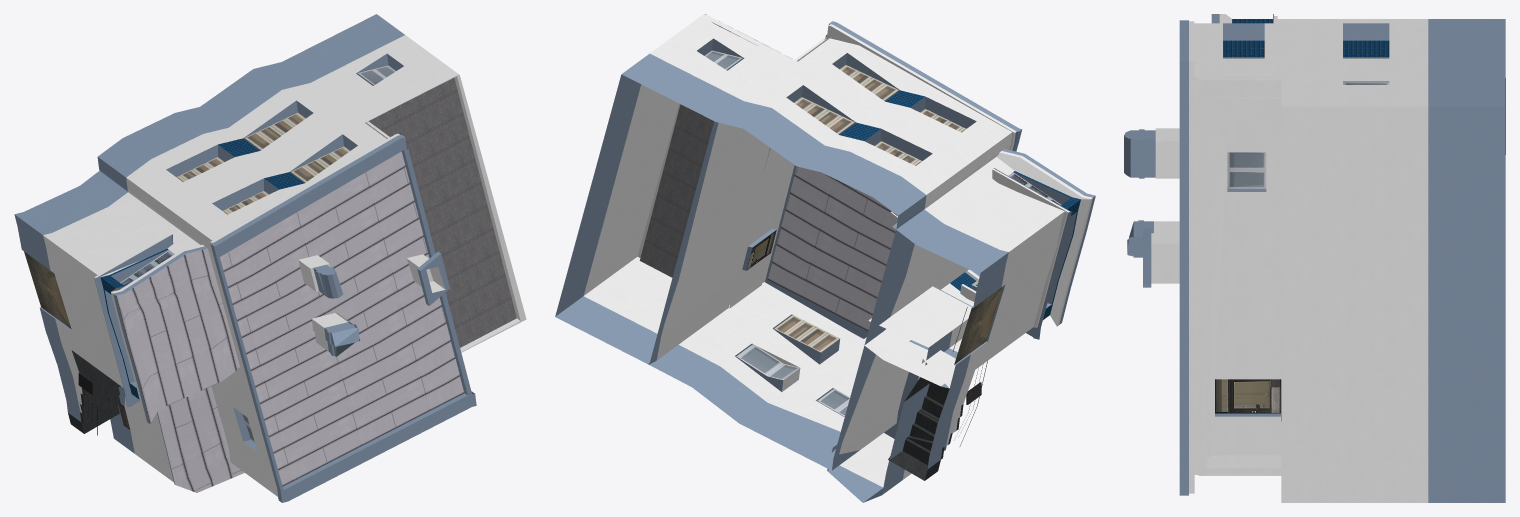
Rendered from Toompuiestee_6-origo.obj.
3 renders of one model, left to right at view 1: azimuth 30°, elevation 25°; view 2: azimuth 150°, elevation 25°; view 3: azimuth 270°, elevation 25°, orthographic. The views are drawn at different scales.
Parts seen in each view (by area): view 1: Toompuiestee_6; view 2: Toompuiestee_6; view 3: Toompuiestee_6.
Boxes of the visible parts, left/top/right/bottom form: Toompuiestee_6: left=14, top=14, right=526, bottom=502; Toompuiestee_6: left=555, top=14, right=1095, bottom=502; Toompuiestee_6: left=1124, top=14, right=1505, bottom=502.
Size of the model in its own units: 18.38 by 15 by 10.31.
